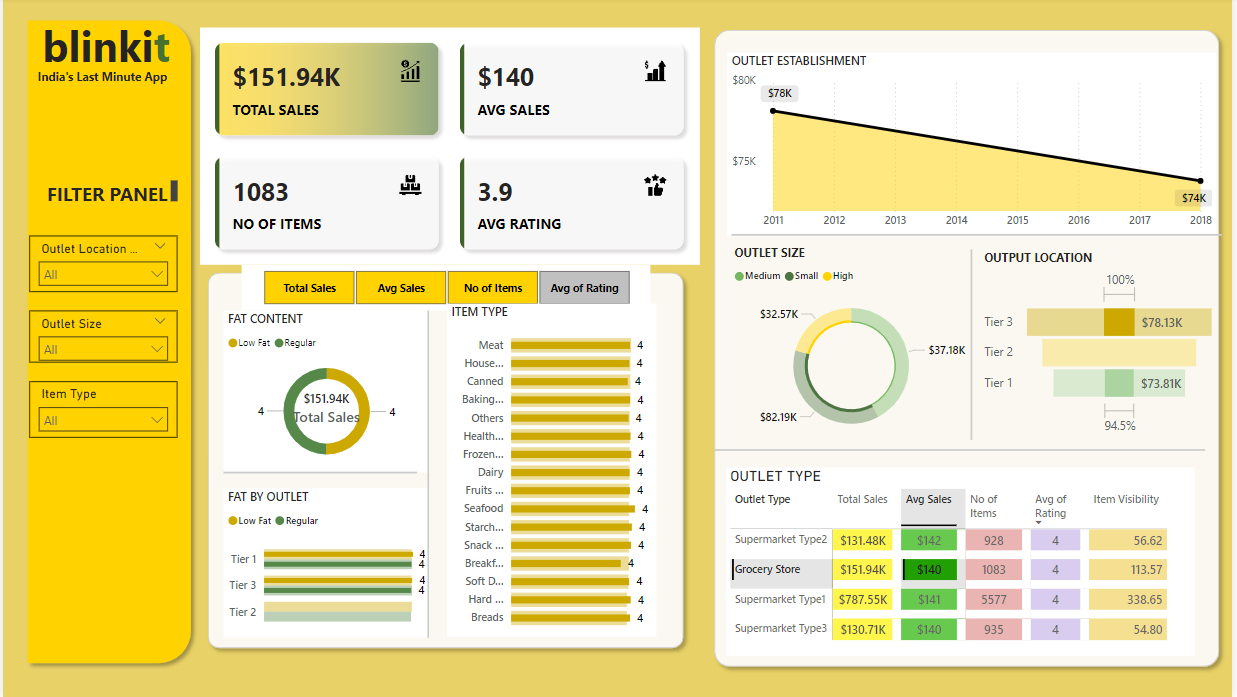

The page's visual inventory and layout, read from the dashboard file:
{"tool":"powerbi","page":{"name":"Page 1","canvas":[1400,800],"ordinal":0},"visuals":[{"type":"shape","box":[19.7,17.9,204.2,750.5],"z":0},{"type":"textbox","box":[32.2,17.9,172,87.8],"z":1000},{"type":"textbox","box":[32.2,75.2,163,51.9],"z":2000},{"type":"cardVisual","fields":{"Data":["BlinkIT Grocery Data.Total Sales","BlinkIT Grocery Data.Avg Sales","BlinkIT Grocery Data.No of Items","BlinkIT Grocery Data.Avg of Rating"]},"box":[223.9,34,569.6,270.5],"z":3000},{"type":"shape","box":[223.9,288.4,560.6,462.1],"z":4000},{"type":"donutChart","title":"FAT CONTENT","fields":{"Y":["BlinkIT Grocery Data.No of Items"],"Category":["BlinkIT Grocery Data.Item Fat Content"]},"box":[250.8,356.4,234.6,184.5],"z":5000},{"type":"slicer","fields":{"Values":["Metrics.Metrics"]},"box":[272.3,304.5,465.7,51.9],"z":6000},{"type":"cardVisual","fields":{"Data":["BlinkIT Grocery Data.Total Sales"]},"box":[300.9,417.3,136.1,102.1],"z":7000},{"type":"clusteredBarChart","title":"FAT BY OUTLET","fields":{"Y":["BlinkIT Grocery Data.No of Items"],"Category":["BlinkIT Grocery Data.Outlet Location Type"],"Series":["BlinkIT Grocery Data.Item Fat Content"]},"box":[250.8,558.8,234.6,170.2],"z":8000},{"type":"shape","box":[250.8,524.8,220.3,34],"z":9000},{"type":"shape","box":[471.1,356.4,26.9,372.6],"z":10000},{"type":"barChart","title":"ITEM TYPE","fields":{"Y":["BlinkIT Grocery Data.No of Items"],"Category":["BlinkIT Grocery Data.Item Type"]},"box":[505.1,349.3,238.2,379.7],"z":11000},{"type":"shape","box":[800.7,28.7,592.9,743.3],"z":12000},{"type":"lineChart","title":"OUTLET ESTABLISHMENT","fields":{"Category":["BlinkIT Grocery Data.Outlet Establishment Year"],"Y":["BlinkIT Grocery Data.Total Sales"]},"box":[825.7,62.7,557.1,209.6],"z":13000},{"type":"donutChart","title":"OUTLET SIZE","fields":{"Category":["BlinkIT Grocery Data.Outlet Size"],"Y":["BlinkIT Grocery Data.Total Sales"]},"box":[827.5,281.2,275.8,232.9],"z":13001},{"type":"shape","box":[1096.2,288.4,12.5,216.7],"z":13002},{"type":"funnel","title":"OUTPUT LOCATION","fields":{"Y":["BlinkIT Grocery Data.Total Sales"],"Category":["BlinkIT Grocery Data.Outlet Location Type"]},"box":[1112.3,288.4,274,216.7],"z":13003},{"type":"pivotTable","title":"OUTLET TYPE","fields":{"Values":["BlinkIT Grocery Data.Total Sales","BlinkIT Grocery Data.Avg Sales","BlinkIT Grocery Data.No of Items","BlinkIT Grocery Data.Avg of Rating","Sum(BlinkIT Grocery Data.Item Visibility)"],"Rows":["BlinkIT Grocery Data.Outlet Type"]},"box":[823.9,535.6,533.8,214.9],"z":13004},{"type":"shape","box":[811.4,496.2,558.8,39.4],"z":13005},{"type":"slicer","fields":{"Values":["BlinkIT Grocery Data.Outlet Location Type"]},"box":[30.4,272.3,168.4,64.5],"z":13006},{"type":"slicer","fields":{"Values":["BlinkIT Grocery Data.Outlet Size"]},"box":[30.4,356.4,168.4,59.1],"z":13007},{"type":"slicer","fields":{"Values":["BlinkIT Grocery Data.Item Type"]},"box":[30.4,437,168.4,64.5],"z":13008},{"type":"textbox","box":[41.2,204.2,163,35.8],"z":13009},{"type":"shape","box":[829.3,245.4,558.8,51.9],"z":13010}]}

Visuals, with their boxes in screenshot pixels (x1, y1, x2, y2), scaled from the page's 1400x800 canvas onto the 1237x697 screenshot:
shape: (x1=17, y1=16, x2=198, y2=669)
textbox: (x1=28, y1=16, x2=180, y2=92)
textbox: (x1=28, y1=66, x2=172, y2=111)
cardVisual - BlinkIT Grocery Data.Total Sales x BlinkIT Grocery Data.Avg Sales: (x1=198, y1=30, x2=701, y2=265)
shape: (x1=198, y1=251, x2=693, y2=654)
"FAT CONTENT" donutChart: (x1=222, y1=311, x2=429, y2=471)
slicer - Metrics.Metrics: (x1=241, y1=265, x2=652, y2=311)
cardVisual - BlinkIT Grocery Data.Total Sales: (x1=266, y1=364, x2=386, y2=453)
"FAT BY OUTLET" clusteredBarChart: (x1=222, y1=487, x2=429, y2=635)
shape: (x1=222, y1=457, x2=416, y2=487)
shape: (x1=416, y1=311, x2=440, y2=635)
"ITEM TYPE" barChart: (x1=446, y1=304, x2=657, y2=635)
shape: (x1=707, y1=25, x2=1231, y2=673)
"OUTLET ESTABLISHMENT" lineChart: (x1=730, y1=55, x2=1222, y2=237)
"OUTLET SIZE" donutChart: (x1=731, y1=245, x2=975, y2=448)
shape: (x1=969, y1=251, x2=980, y2=440)
"OUTPUT LOCATION" funnel: (x1=983, y1=251, x2=1225, y2=440)
"OUTLET TYPE" pivotTable: (x1=728, y1=467, x2=1200, y2=654)
shape: (x1=717, y1=432, x2=1211, y2=467)
slicer - BlinkIT Grocery Data.Outlet Location Type: (x1=27, y1=237, x2=176, y2=293)
slicer - BlinkIT Grocery Data.Outlet Size: (x1=27, y1=311, x2=176, y2=362)
slicer - BlinkIT Grocery Data.Item Type: (x1=27, y1=381, x2=176, y2=437)
textbox: (x1=36, y1=178, x2=180, y2=209)
shape: (x1=733, y1=214, x2=1226, y2=259)
